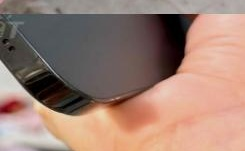scratch: (0, 31, 10, 48)
